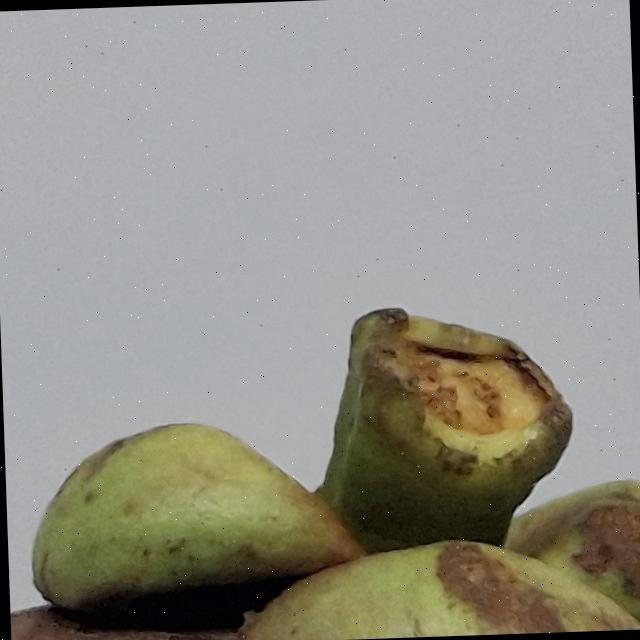mangosteen: (0, 249, 640, 640)
